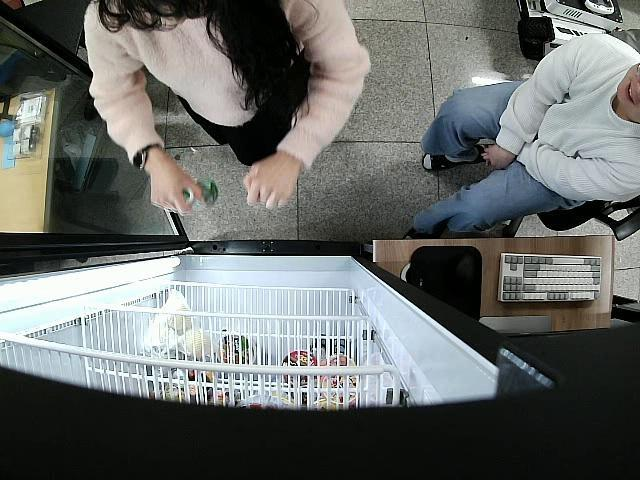18_trevi: (184, 180, 220, 212)
